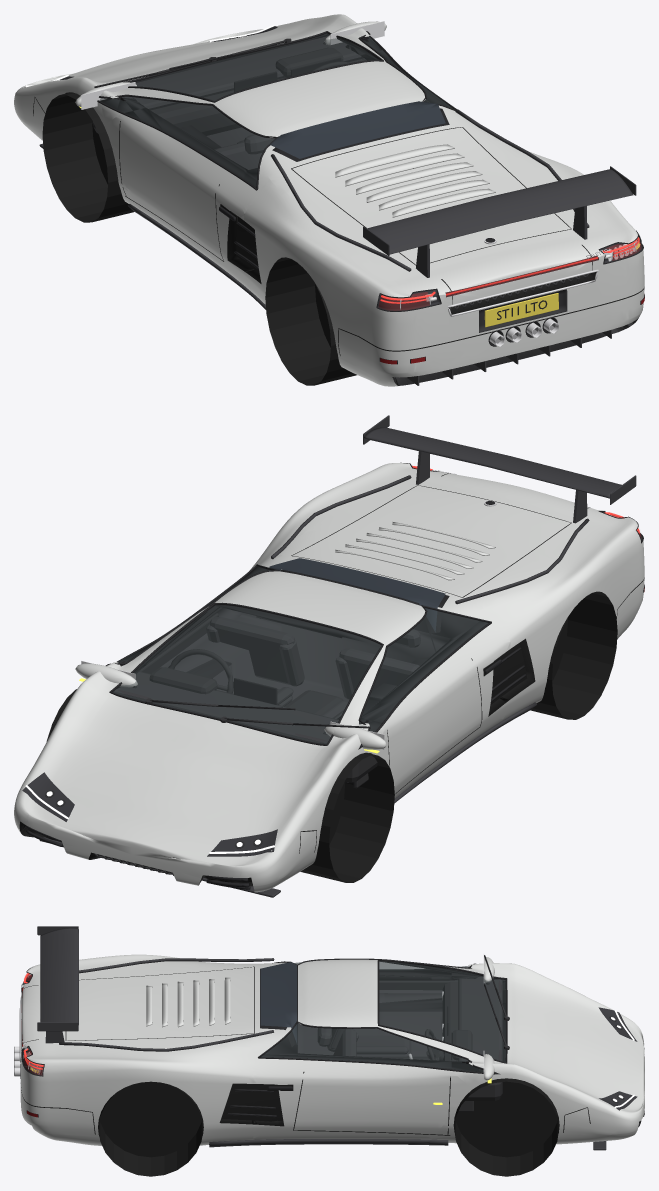
File: stiletto.glb
3 views of the same model, one above another, from view 1: azimuth 30°, elevation 25°; view 2: azimuth 150°, elevation 25°; view 3: azimuth 270°, elevation 25° (orthographic). The views are drawn at different scales.
Parts seen in each view (by area): view 1: CabinOpening, DoorLeft, DoorRight; view 2: CabinOpening, DoorLeft, DoorRight; view 3: CabinOpening, DoorRight, DoorLeft.
Part boxes in pixels (x1,y1,x2,y2): CabinOpening: [14, 14, 644, 386]; DoorLeft: [106, 99, 269, 283]; DoorRight: [355, 49, 456, 109]; CabinOpening: [14, 415, 644, 897]; DoorLeft: [361, 609, 510, 793]; DoorRight: [124, 557, 269, 673]; CabinOpening: [14, 926, 644, 1176]; DoorRight: [253, 1046, 469, 1133]; DoorLeft: [272, 963, 458, 993].
Size of the model in its own units: 2.19 by 1.24 by 4.82.
